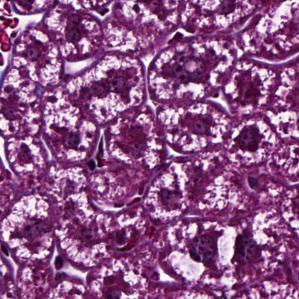inflammation: (143, 35, 236, 100), (60, 57, 147, 122)
